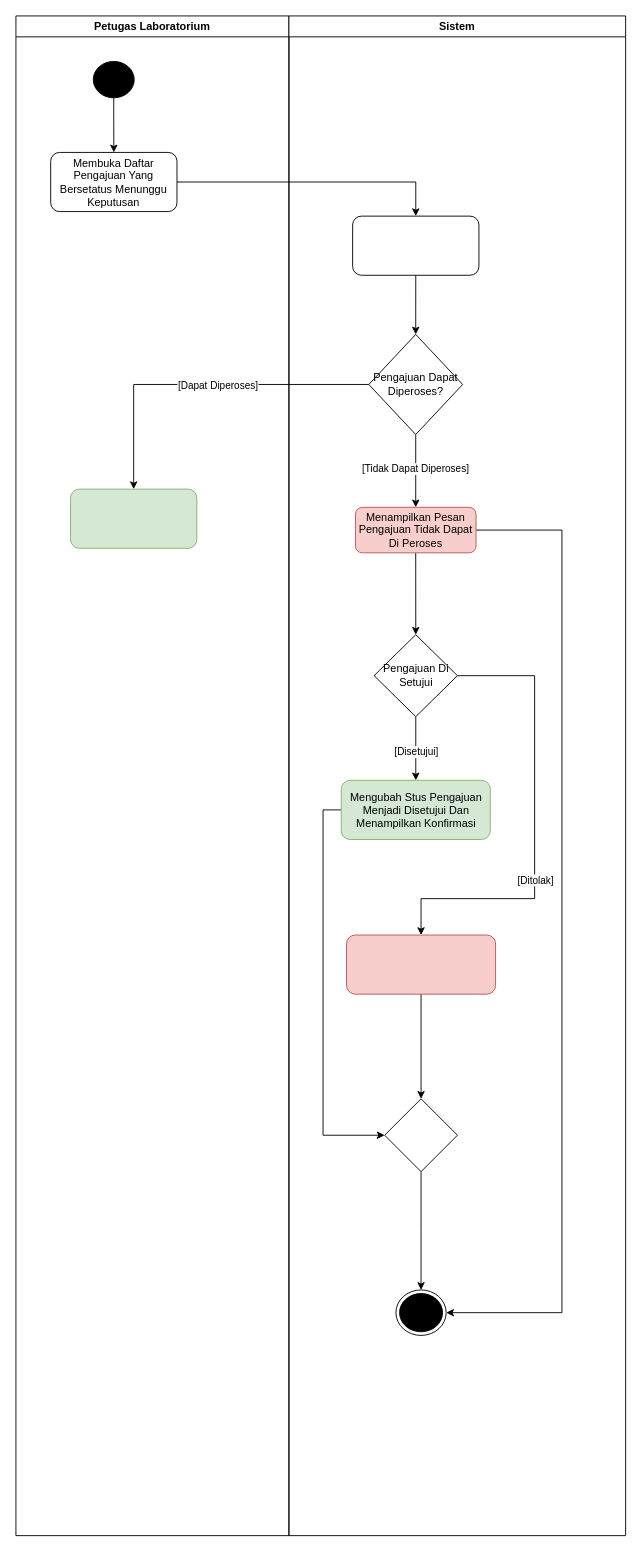
The diagram is 642 pixels wide and 1552 high, and some of its shapes have lost their labels. Here are the shapes that lost their labels. From the top down, the centre of each, then its label:
(x=415, y=245): Menampilkan Daftar Pengajuan Yang Bersetatus Menunggu Pengajuan
(x=133, y=518): Memilih Pengajuan Dan Menetapkan Persetujuan Atau Penolakan
(x=421, y=964): Mengubah Stus Pengajuan Menjadi Ditolak Dan Melakukan Konfirmasin Penolakan
